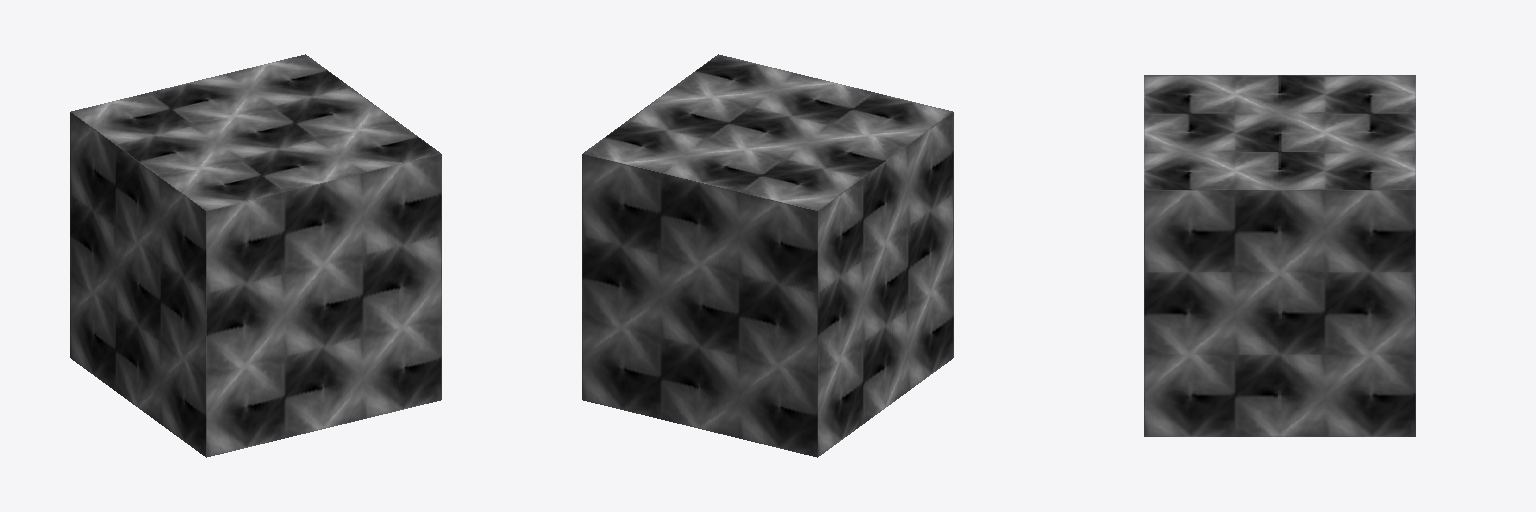
3 renders of one model, left to right at view 1: azimuth 30°, elevation 25°; view 2: azimuth 150°, elevation 25°; view 3: azimuth 270°, elevation 25°, orthographic.
Visible parts, largest first — view 1: cube; view 2: cube; view 3: cube.
Part boxes in pixels (left/top/right/bottom): cube: left=70, top=54, right=441, bottom=457; cube: left=582, top=54, right=953, bottom=457; cube: left=1144, top=75, right=1415, bottom=436.
Size of the model in its own units: 1 by 1 by 1.
Materials: 1 (1 with a texture image).